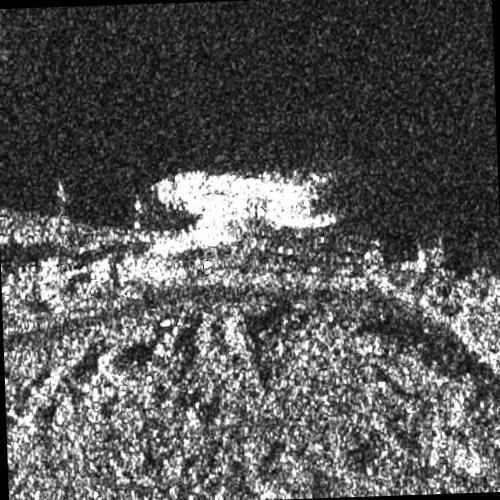ship: (151, 168, 319, 219)
